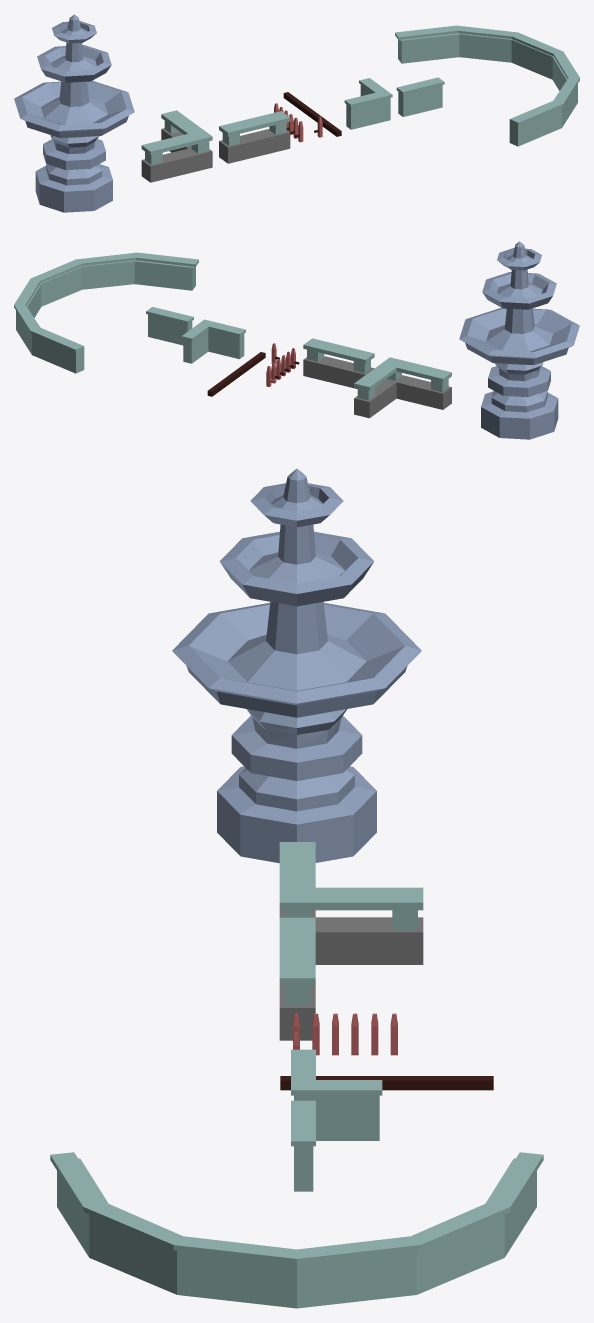
3 renders of one model, top to bottom at view 1: azimuth 30°, elevation 25°; view 2: azimuth 150°, elevation 25°; view 3: azimuth 270°, elevation 25°, orthographic. The views are drawn at different scales.
Visible parts, largest first — view 1: Cylinder001, Cylinder002, Object001, Object002, Box001, Object003, Box020; view 2: Cylinder001, Cylinder002, Object001, Object002, Box001, Object003, Box020; view 3: Cylinder001, Cylinder002, Object001, Box001, Object002, Box020, Object003.
Part boxes in pixels (box(x1,y1,x2,y2)): Cylinder001: box(14, 14, 134, 212); Cylinder002: box(395, 25, 579, 146); Object001: box(141, 110, 212, 182); Object002: box(219, 111, 290, 163); Box001: box(344, 78, 392, 129); Object003: box(396, 77, 444, 116); Box020: box(283, 92, 341, 136); Cylinder001: box(459, 241, 579, 439); Cylinder002: box(14, 252, 198, 373); Object001: box(354, 357, 451, 418); Object002: box(303, 338, 374, 388); Box001: box(181, 319, 245, 363); Object003: box(146, 307, 193, 345); Box020: box(207, 352, 265, 396); Cylinder001: box(172, 468, 421, 863); Cylinder002: box(50, 1152, 543, 1308); Object001: box(279, 842, 423, 964); Box001: box(291, 1049, 382, 1140); Object002: box(279, 917, 315, 1040); Box020: box(280, 1076, 493, 1090); Object003: box(291, 1100, 315, 1191).
Bounding box in the file's own units: 3497 × 1125 × 1376.
